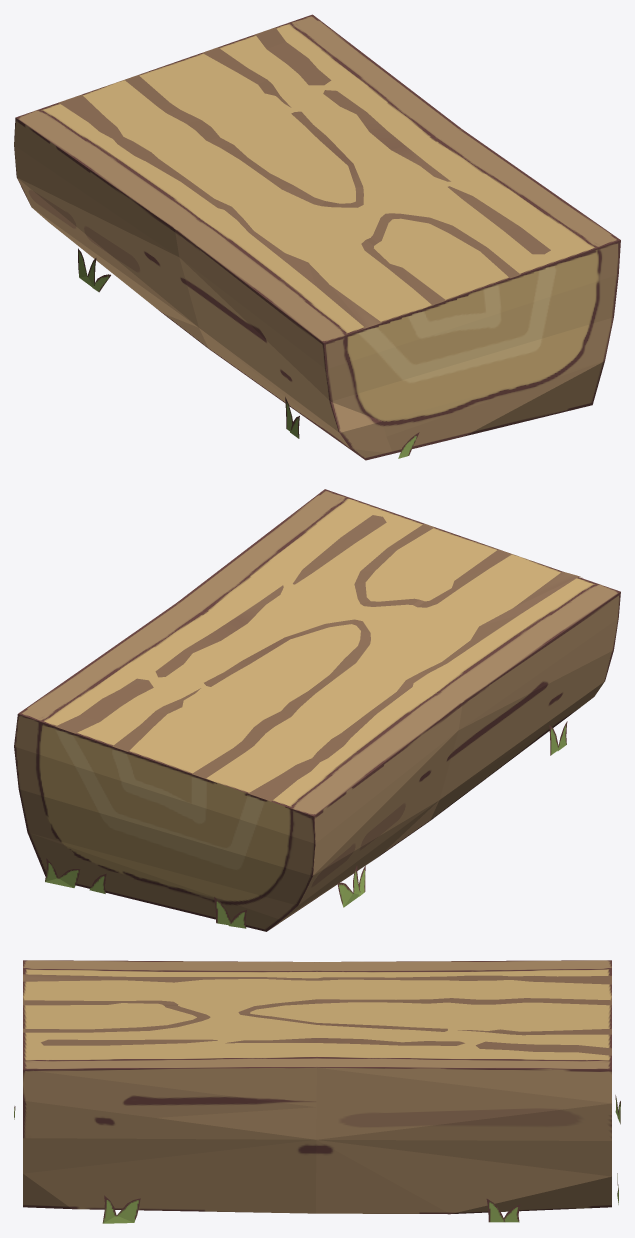
Rendered from Mesh_Home_B_RF_12_SM.fbx.
3 views of the same model, one above another, from view 1: azimuth 30°, elevation 25°; view 2: azimuth 150°, elevation 25°; view 3: azimuth 270°, elevation 25° (orthographic). The views are drawn at different scales.
Parts seen in each view (by area): view 1: Mesh_Home_B_RF_12; view 2: Mesh_Home_B_RF_12; view 3: Mesh_Home_B_RF_12.
Part boxes in pixels (box(x1,y1,x2,y2)): Mesh_Home_B_RF_12: box(14, 14, 620, 460); Mesh_Home_B_RF_12: box(14, 489, 620, 931); Mesh_Home_B_RF_12: box(14, 960, 620, 1223).
Bounding box in the file's own units: 100 × 50.8 × 182.
